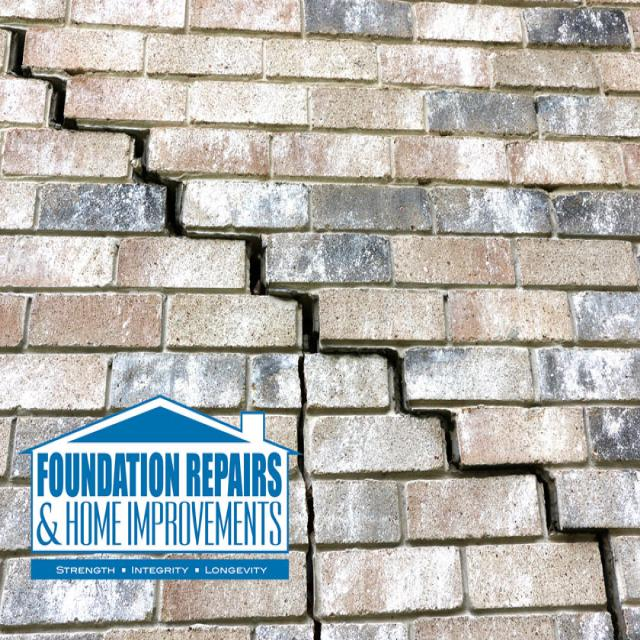Crack: (2, 20, 625, 639), (294, 345, 322, 639)
